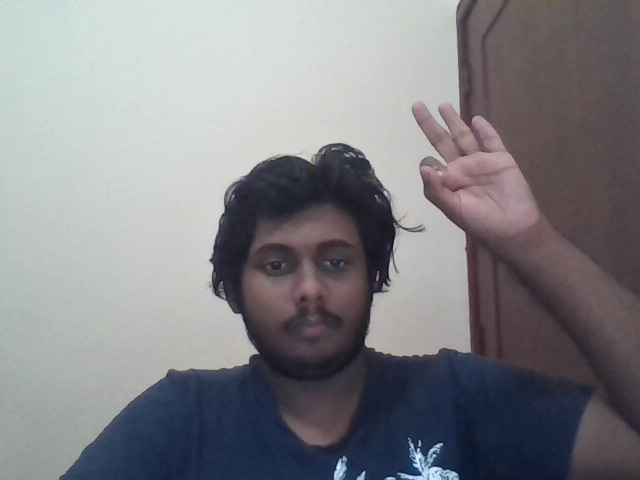ok: (409, 101, 541, 236)
